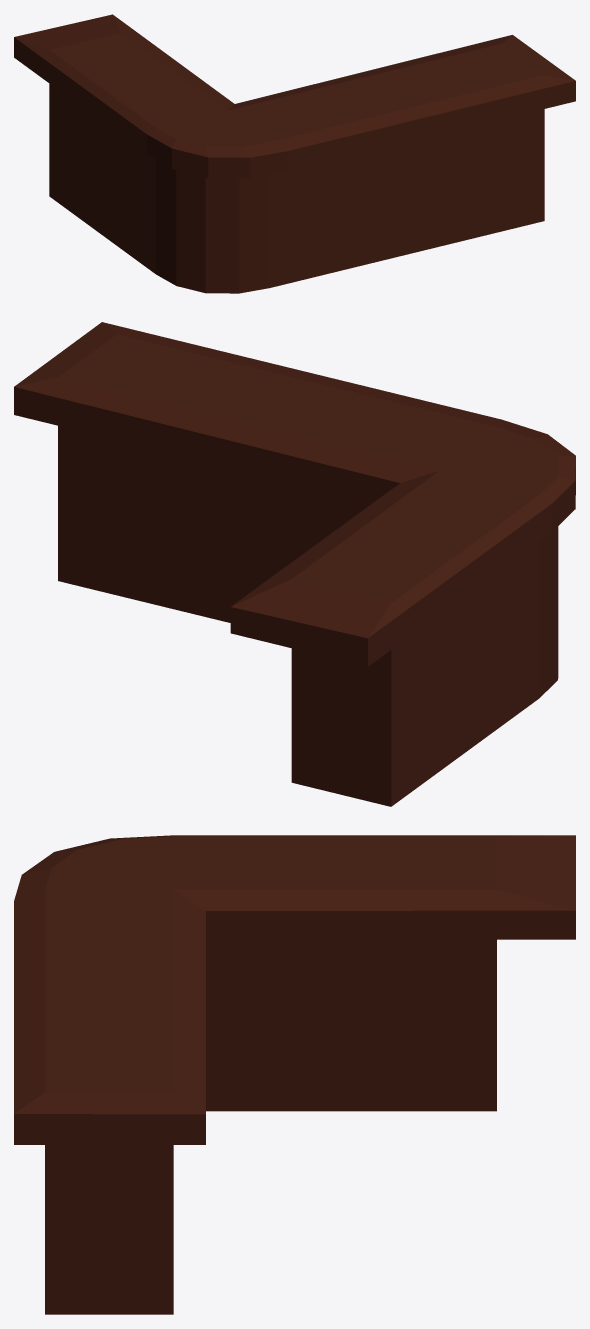
File: env_Balcão.fbx
3 views of the same model, one above another, from view 1: azimuth 30°, elevation 25°; view 2: azimuth 150°, elevation 25°; view 3: azimuth 270°, elevation 25° (orthographic). The views are drawn at different scales.
Parts seen in each view (by area): view 1: env_Balcão; view 2: env_Balcão; view 3: env_Balcão.
Boxes of the visible parts, x1=… form: env_Balcão: x1=14, y1=14, x2=575, y2=293; env_Balcão: x1=14, y1=322, x2=575, y2=806; env_Balcão: x1=14, y1=835, x2=575, y2=1314.
Bounding box in the file's own units: 2817 × 1047 × 2401.
